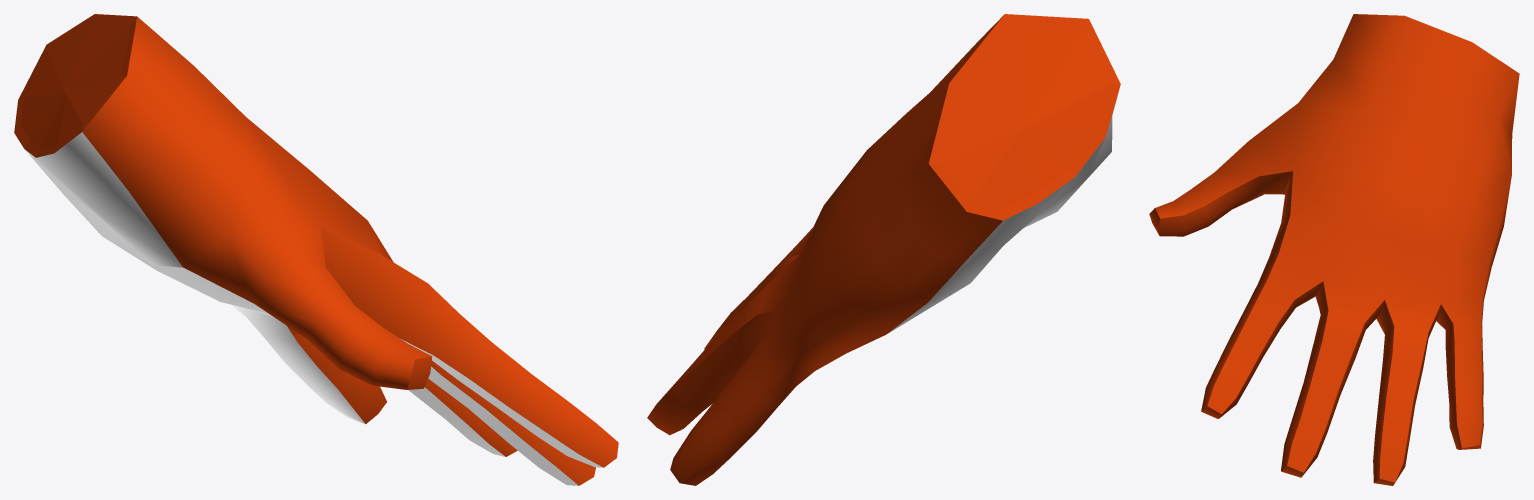
File: right hand.fbx
The picture shows the model from 3 angles, left to right: view 1: azimuth 30°, elevation 25°; view 2: azimuth 150°, elevation 25°; view 3: azimuth 270°, elevation 25°; orthographic projection. The views are drawn at different scales.
Visible parts, largest first — view 1: right; view 2: right; view 3: right.
Part boxes in pixels (box(x1,y1,x2,y2)): right: box(14, 14, 618, 485); right: box(647, 14, 1120, 485); right: box(1149, 14, 1519, 485).
Size of the model in its own units: 15.91 by 15.87 by 16.74.
